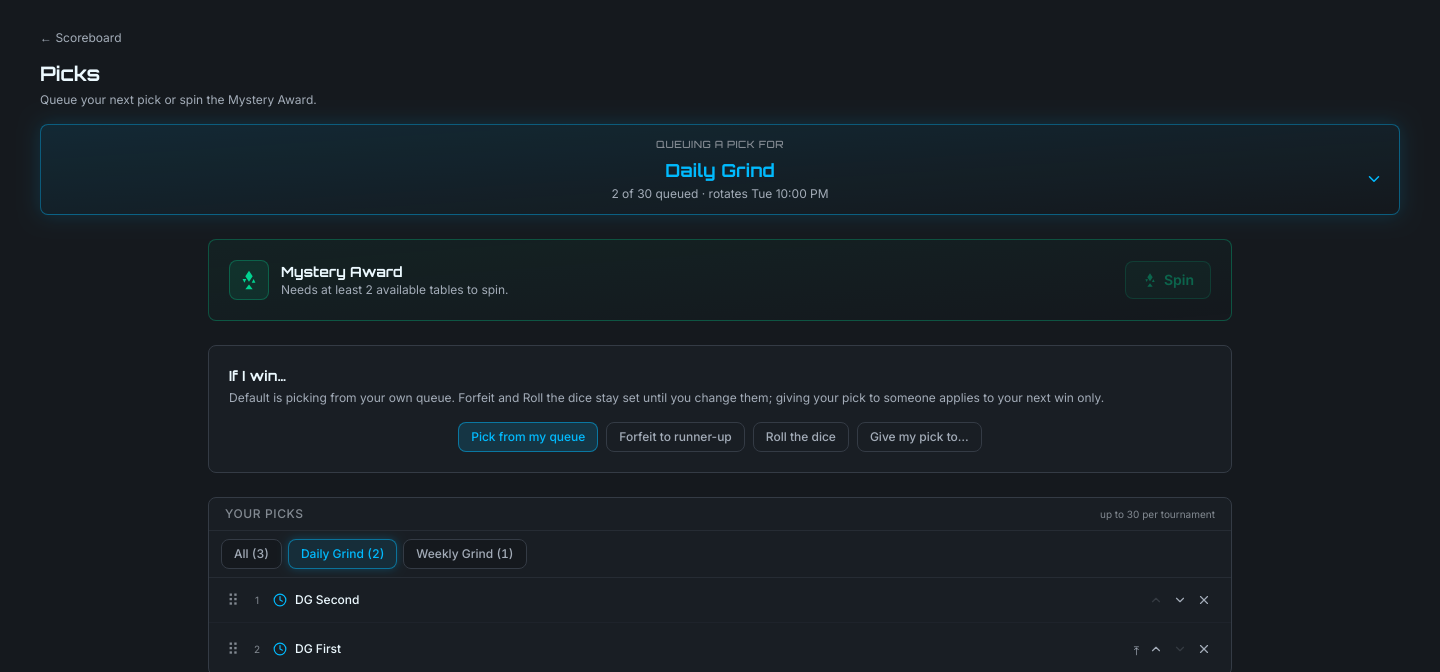
Test: Picks — F2 per-tournament queue tabs › defaults to the selected tournament's tab and clicking a tab only changes the queue view
Expected: the text "DG Second" is shown, [295,592,360,607]
Expected: the text "DG First" is shown, [295,641,341,656]
Click the button with test id "picks-queue-tab-t-2".
click(465, 554)  # box [403,539,527,569]
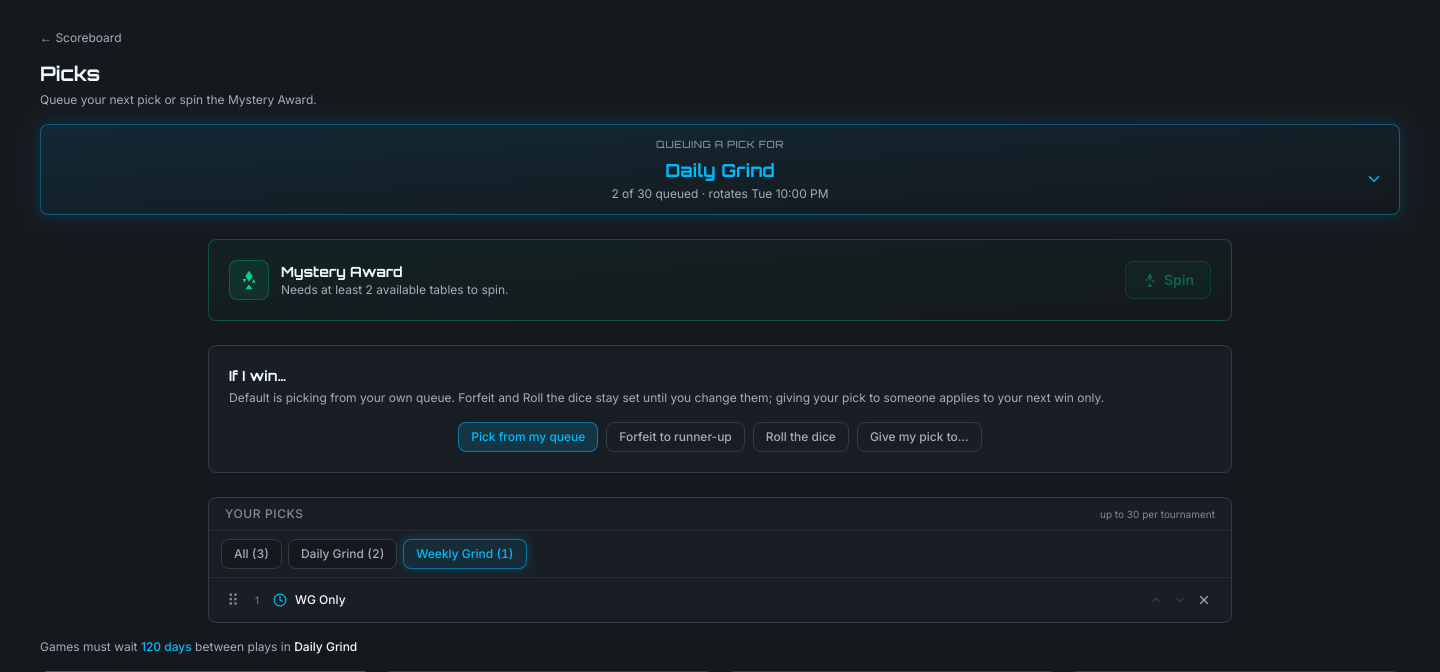
Expected: the text with test id "picks-tournament-selector-name" reads "Daily Grind", [665,159,775,181]
Now the text "WG Only" is shown, box [295,592,346,607]
Now the text "DG Second" is gone
